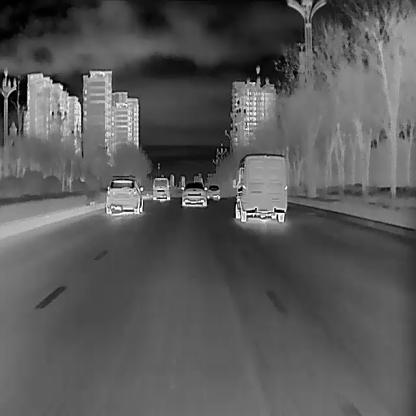car: (231, 152, 287, 222), (103, 174, 143, 214), (180, 181, 207, 206), (150, 176, 171, 200), (206, 184, 220, 199)
